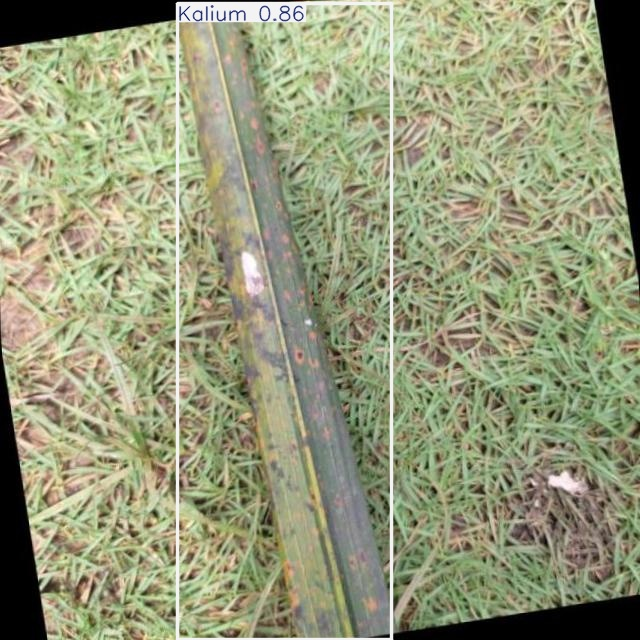Kalium: (178, 3, 391, 639)
